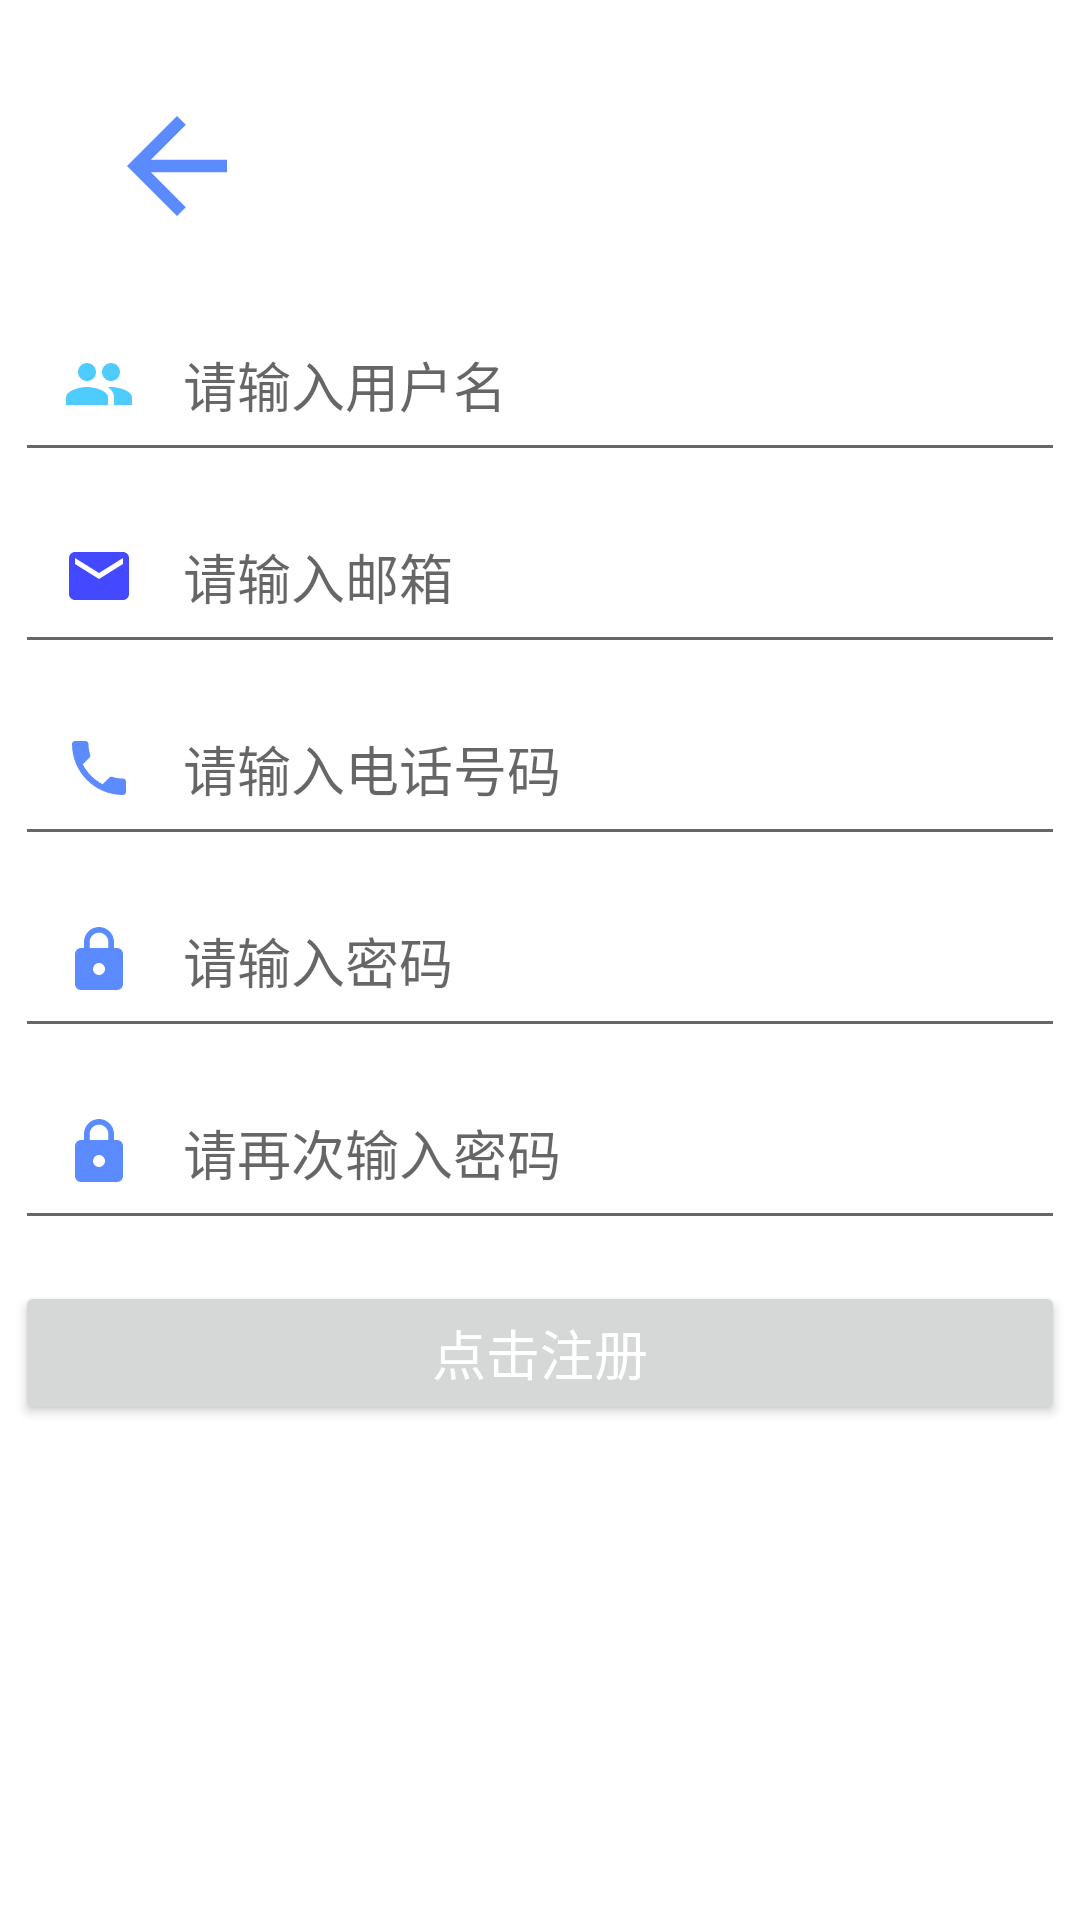

Icon click points for this 1080*1920 phone screenshot, format [x,y]:
arrow back: [177,166]
